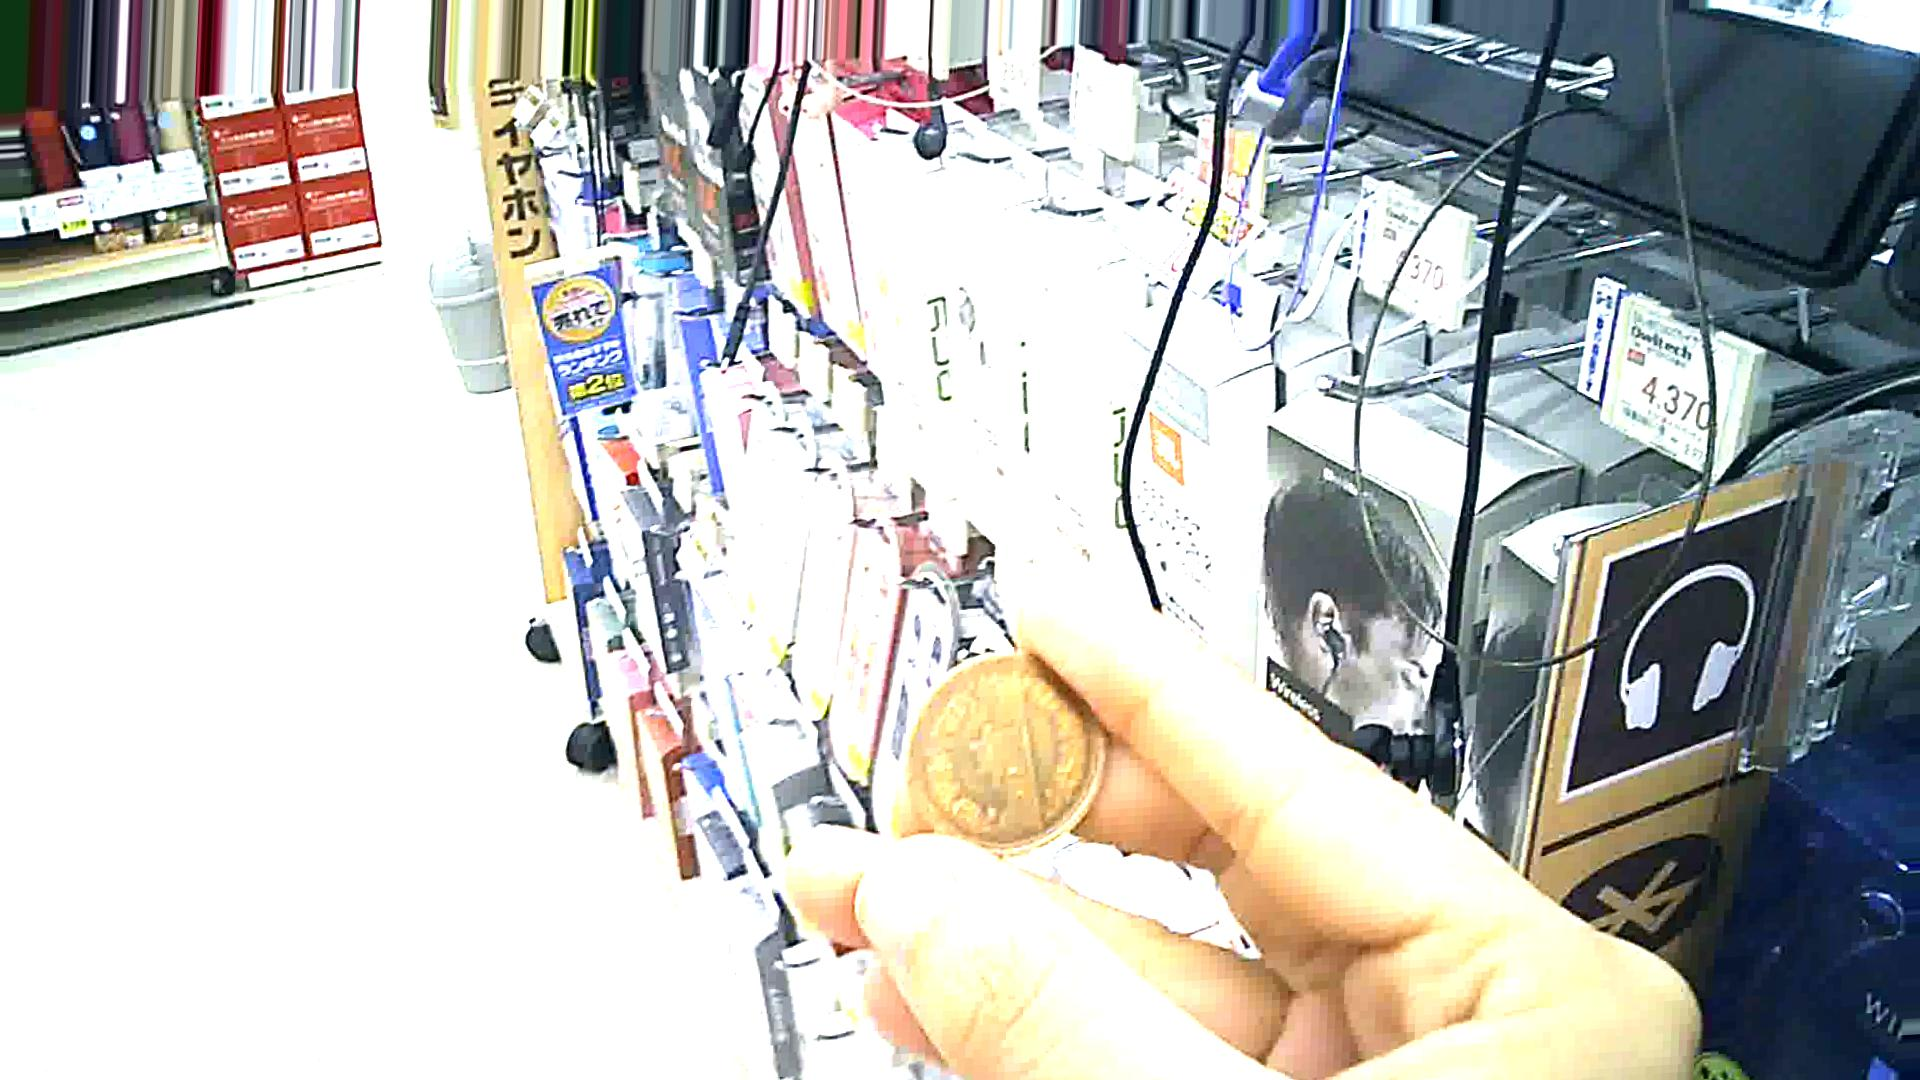10 Yen: (907, 647, 1120, 869)
